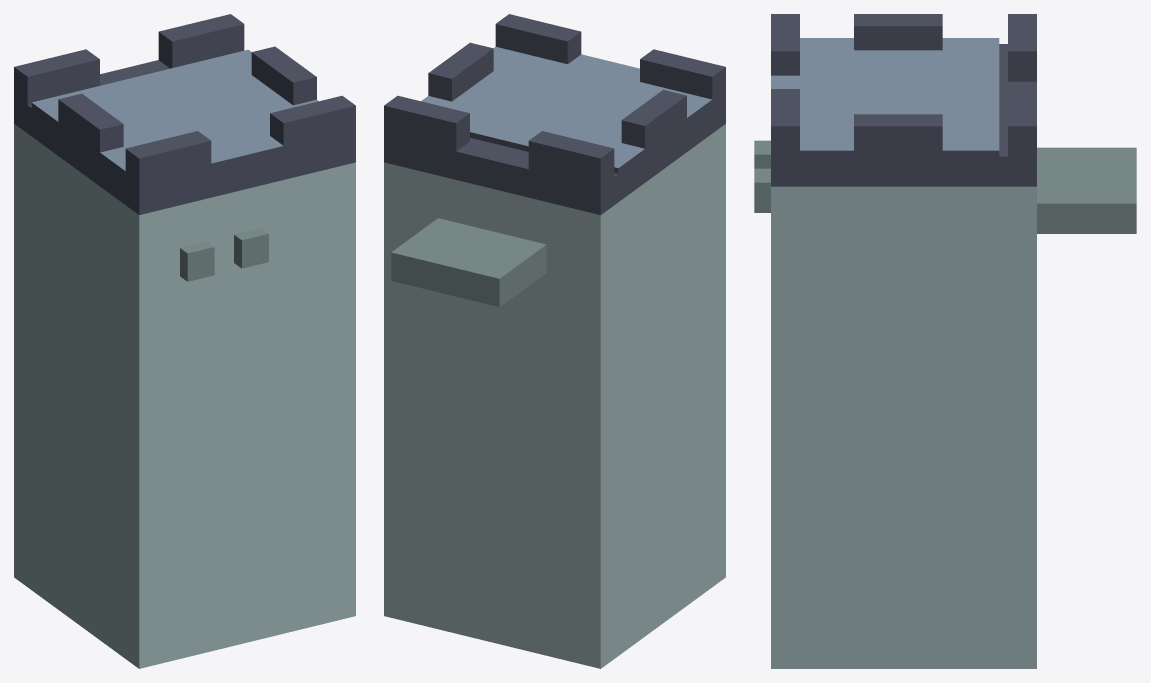
File: Building-Small.002.fbx
The picture shows the model from 3 angles, left to right: view 1: azimuth 30°, elevation 25°; view 2: azimuth 150°, elevation 25°; view 3: azimuth 270°, elevation 25°; orthographic projection. The views are drawn at different scales.
Parts seen in each view (by area): view 1: Building-Small.002; view 2: Building-Small.002; view 3: Building-Small.002.
Boxes of the visible parts, <box> form: Building-Small.002: <box>14,14,355,668</box>; Building-Small.002: <box>384,14,725,668</box>; Building-Small.002: <box>754,14,1136,668</box>.
Size of the model in its own units: 800 by 1800 by 1150.
